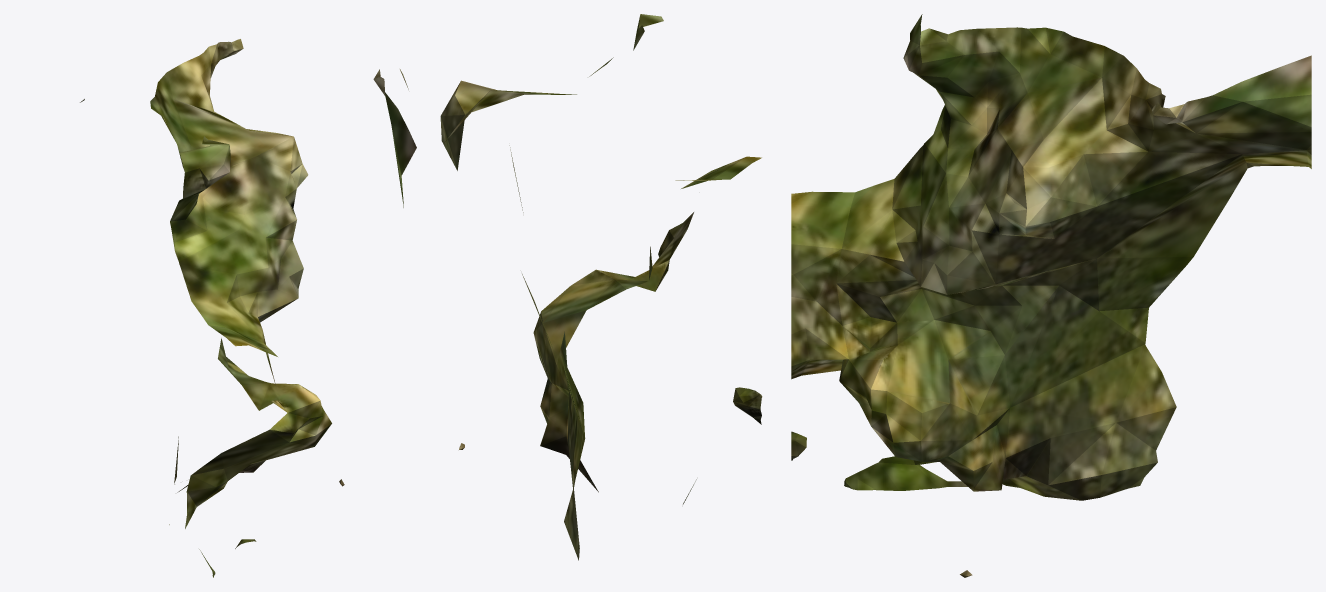
3 views of the same model, side by side, from view 1: azimuth 30°, elevation 25°; view 2: azimuth 150°, elevation 25°; view 3: azimuth 270°, elevation 25° (orthographic). The views are drawn at different scales.
Bounding box in the file's own units: 0.7974 × 1.67 × 1.67.
Materials: 3 (3 with a texture image).
